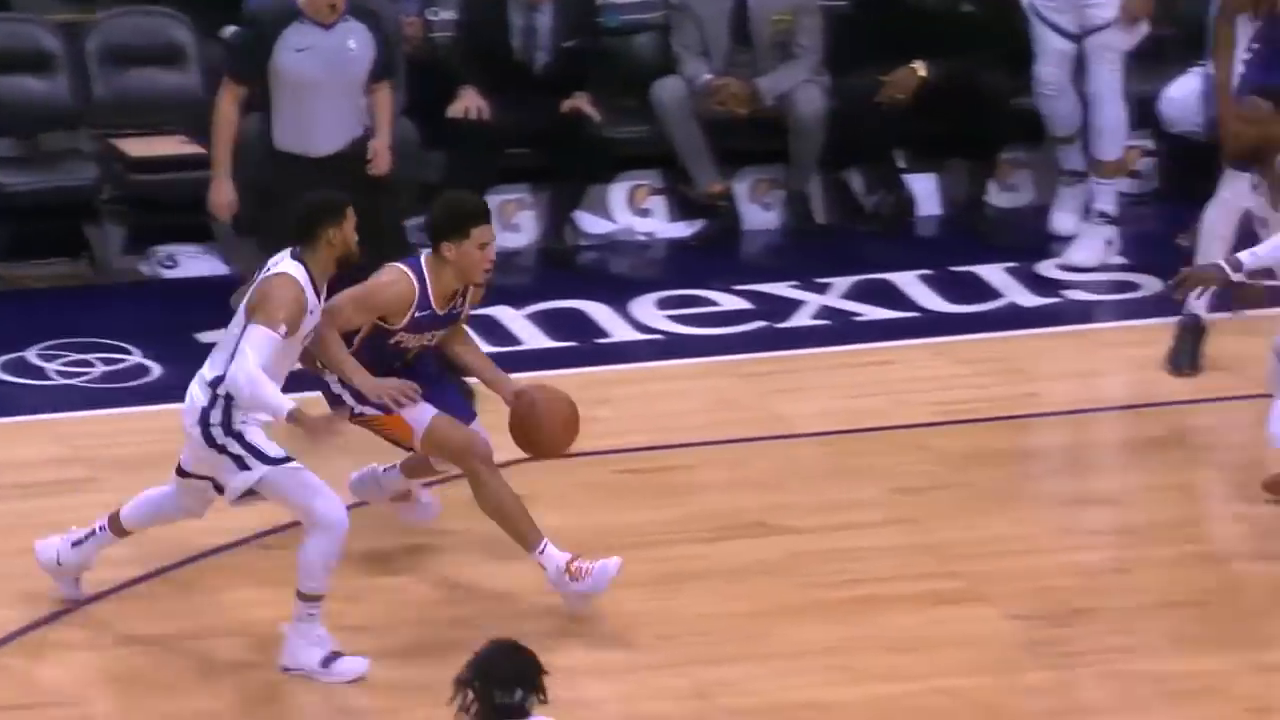ball: (510, 386, 579, 455)
